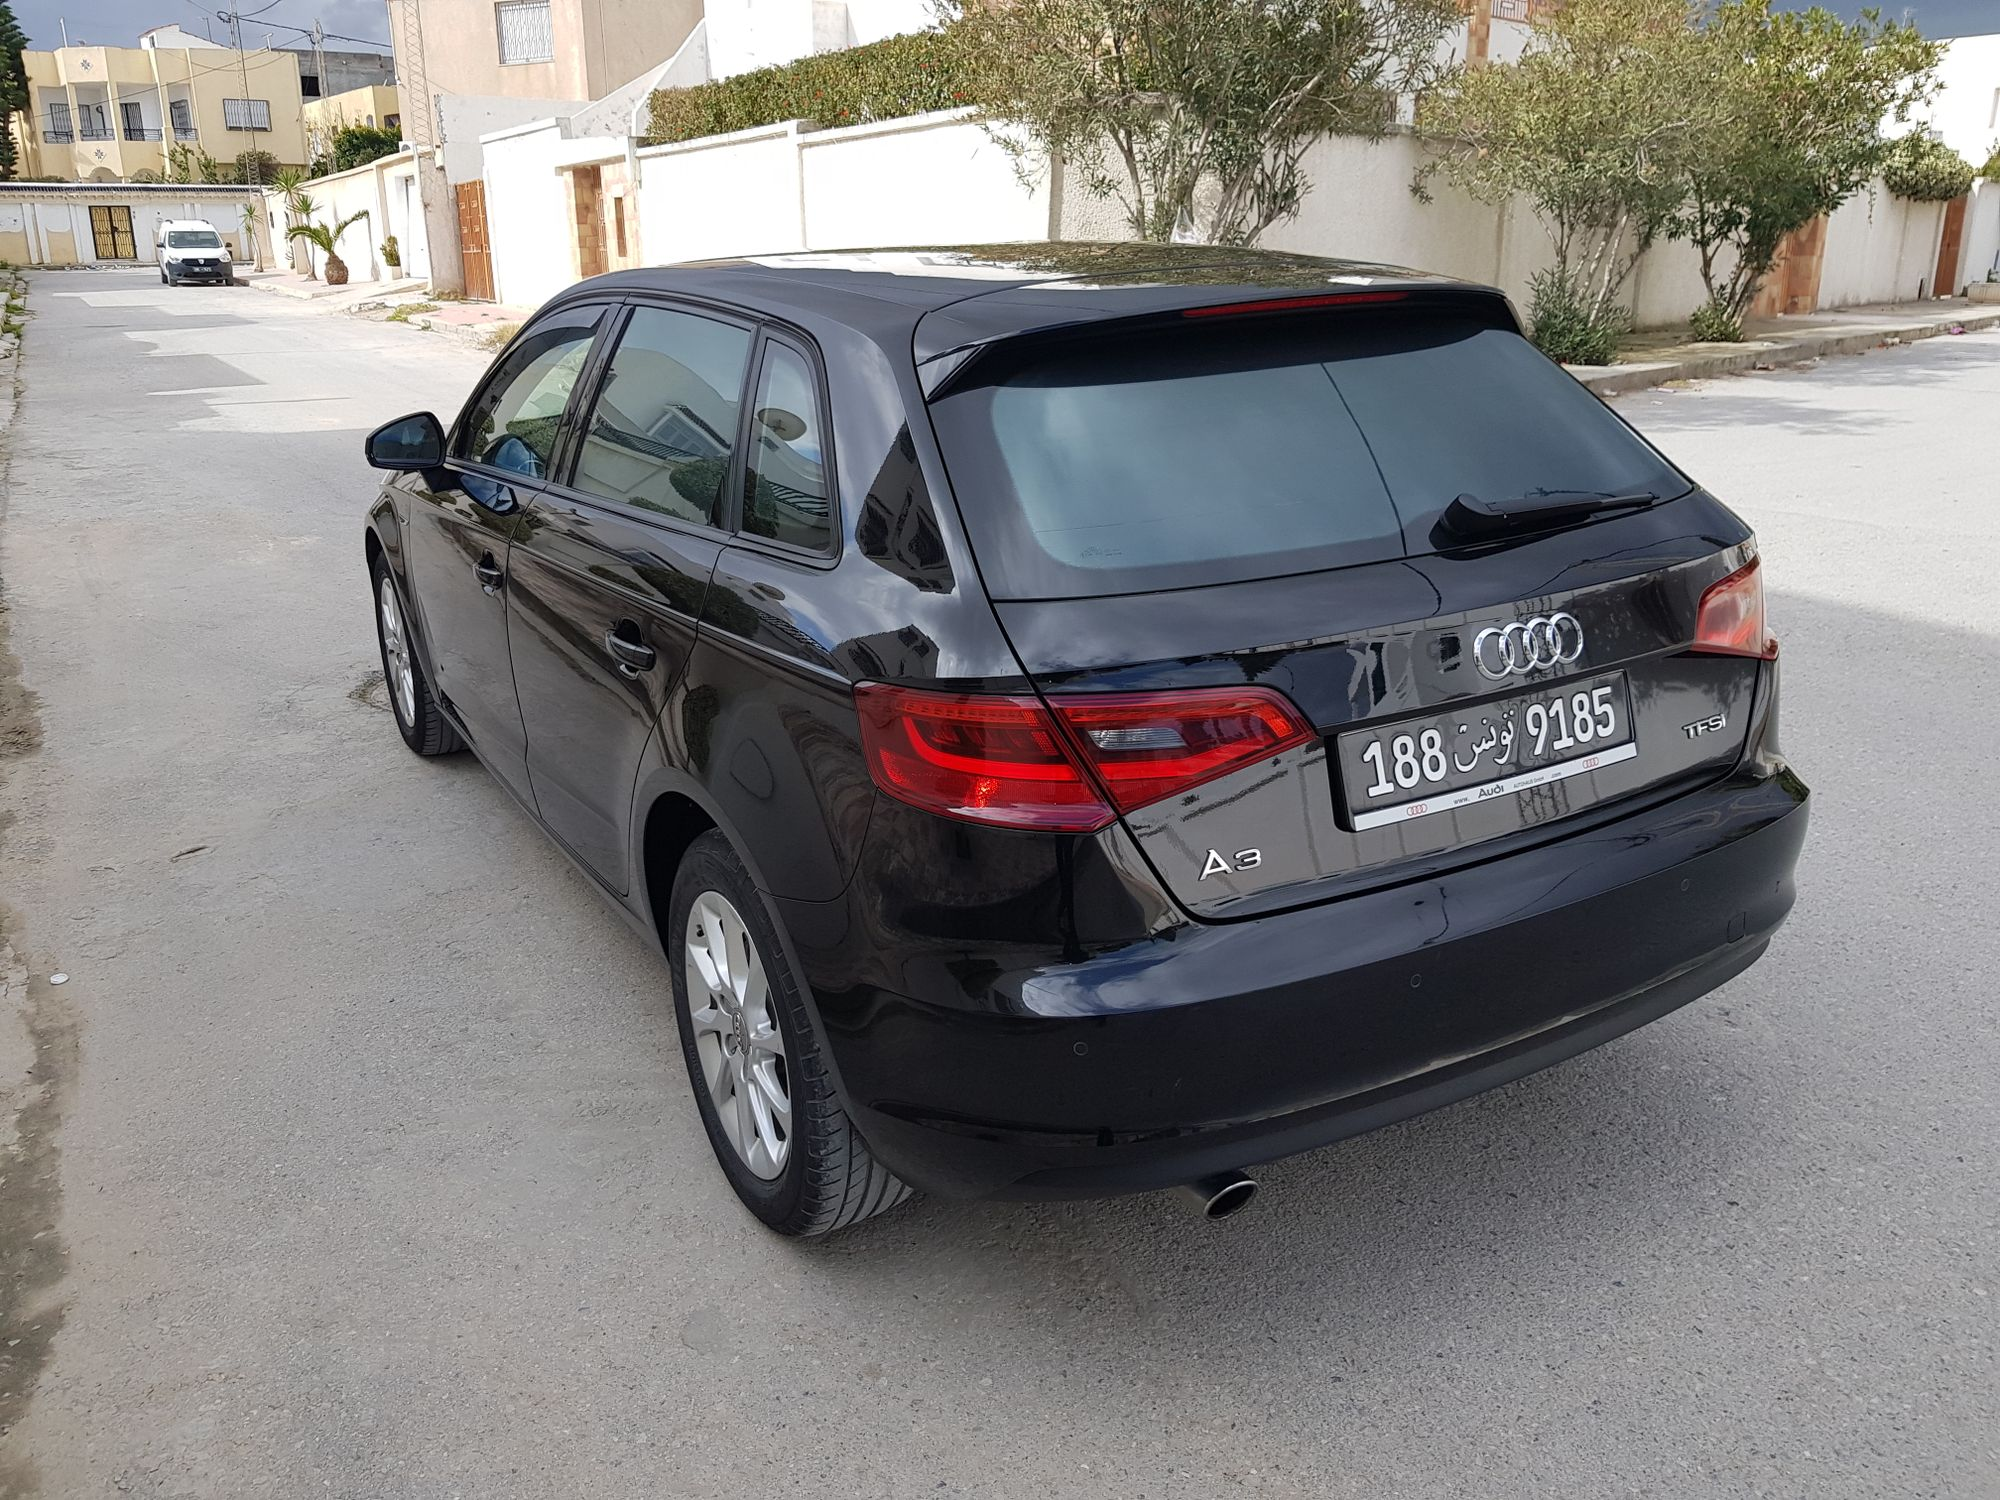LP: (1330, 660, 1637, 830)
